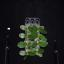leaf: (38, 26, 48, 33), (17, 42, 27, 48), (38, 41, 48, 47), (31, 30, 38, 38), (39, 34, 48, 40), (20, 24, 28, 30), (18, 33, 26, 39), (28, 51, 36, 57), (32, 24, 38, 31), (28, 24, 33, 32), (28, 34, 34, 40), (23, 53, 28, 60), (28, 41, 35, 46), (19, 51, 27, 55), (37, 49, 45, 53), (37, 52, 43, 57), (32, 43, 38, 47), (25, 27, 27, 37), (38, 34, 41, 39), (35, 37, 37, 41)
